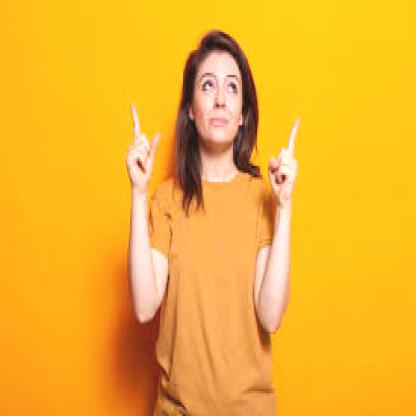Up: (116, 82, 164, 200), (264, 115, 307, 206)
